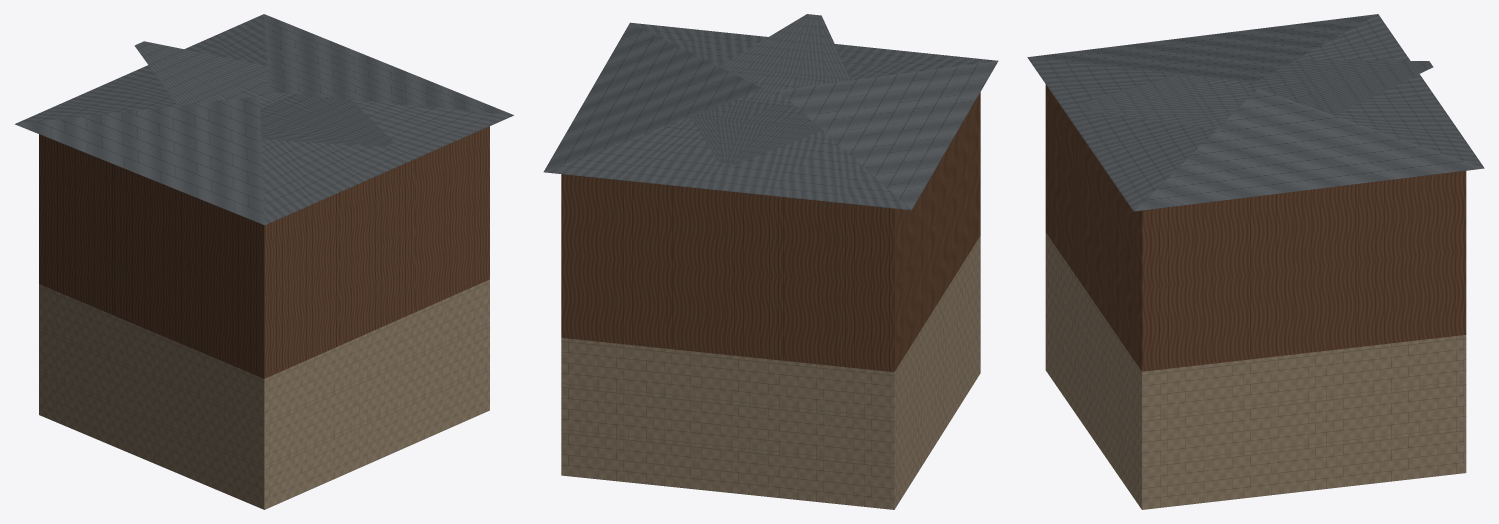
Rendered from bld_c22_30_390.gltf.
3 renders of one model, left to right at view 1: azimuth 30°, elevation 25°; view 2: azimuth 150°, elevation 25°; view 3: azimuth 270°, elevation 25°, orthographic. The views are drawn at different scales.
Parts seen in each view (by area): view 1: bld_c22_30_390; view 2: bld_c22_30_390; view 3: bld_c22_30_390.
Boxes of the visible parts, x1,y1,x2,y2 form: bld_c22_30_390: (15, 14, 513, 509); bld_c22_30_390: (543, 14, 998, 509); bld_c22_30_390: (1027, 14, 1484, 509).
Size of the model in its own units: 15.65 by 12.4 by 15.31.
Materials: 3 (3 with a texture image).
